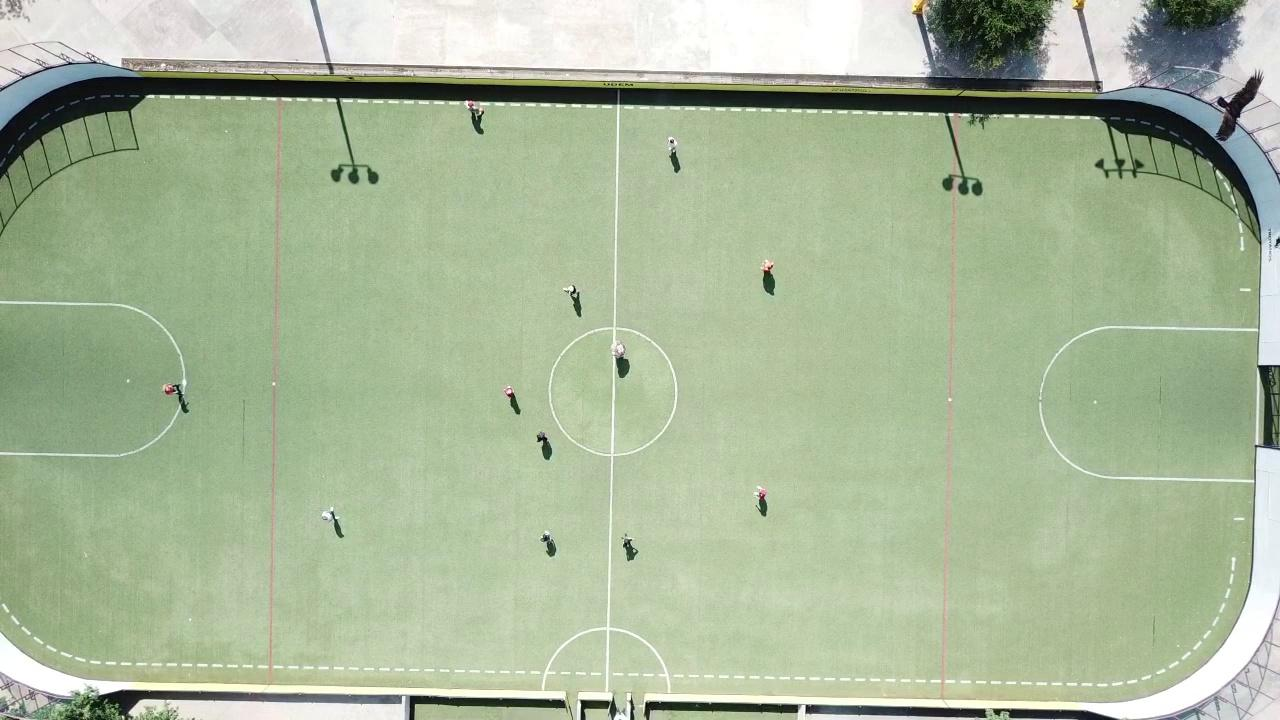ball: (480, 106, 487, 114)
player: (611, 341, 625, 359), (321, 507, 337, 521), (562, 284, 578, 297), (163, 383, 180, 395), (540, 530, 553, 545), (754, 486, 767, 501), (622, 534, 633, 551), (761, 259, 774, 273), (464, 101, 476, 116), (536, 431, 548, 444), (668, 136, 677, 153), (503, 386, 514, 398)
